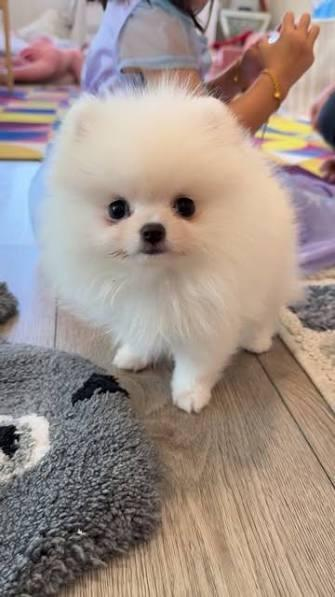non-dog: (79, 0, 322, 140)
puppy-dog: (29, 75, 300, 414)
